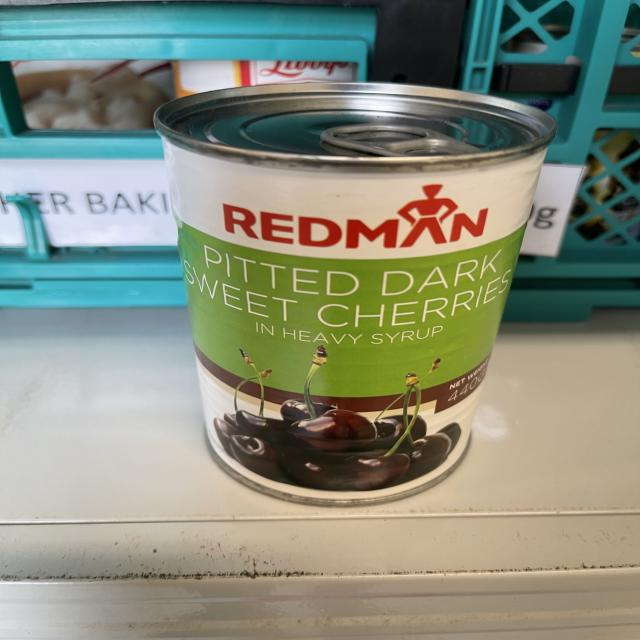object_name: (148, 93, 542, 501)
